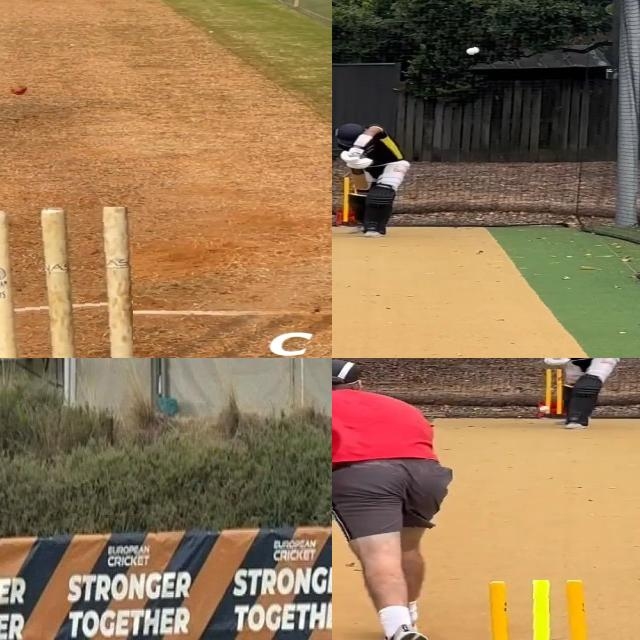Cricket ball: (10, 86, 28, 96), (466, 47, 481, 56), (539, 406, 550, 413)
Stumps: (0, 207, 133, 358), (469, 580, 597, 640)
